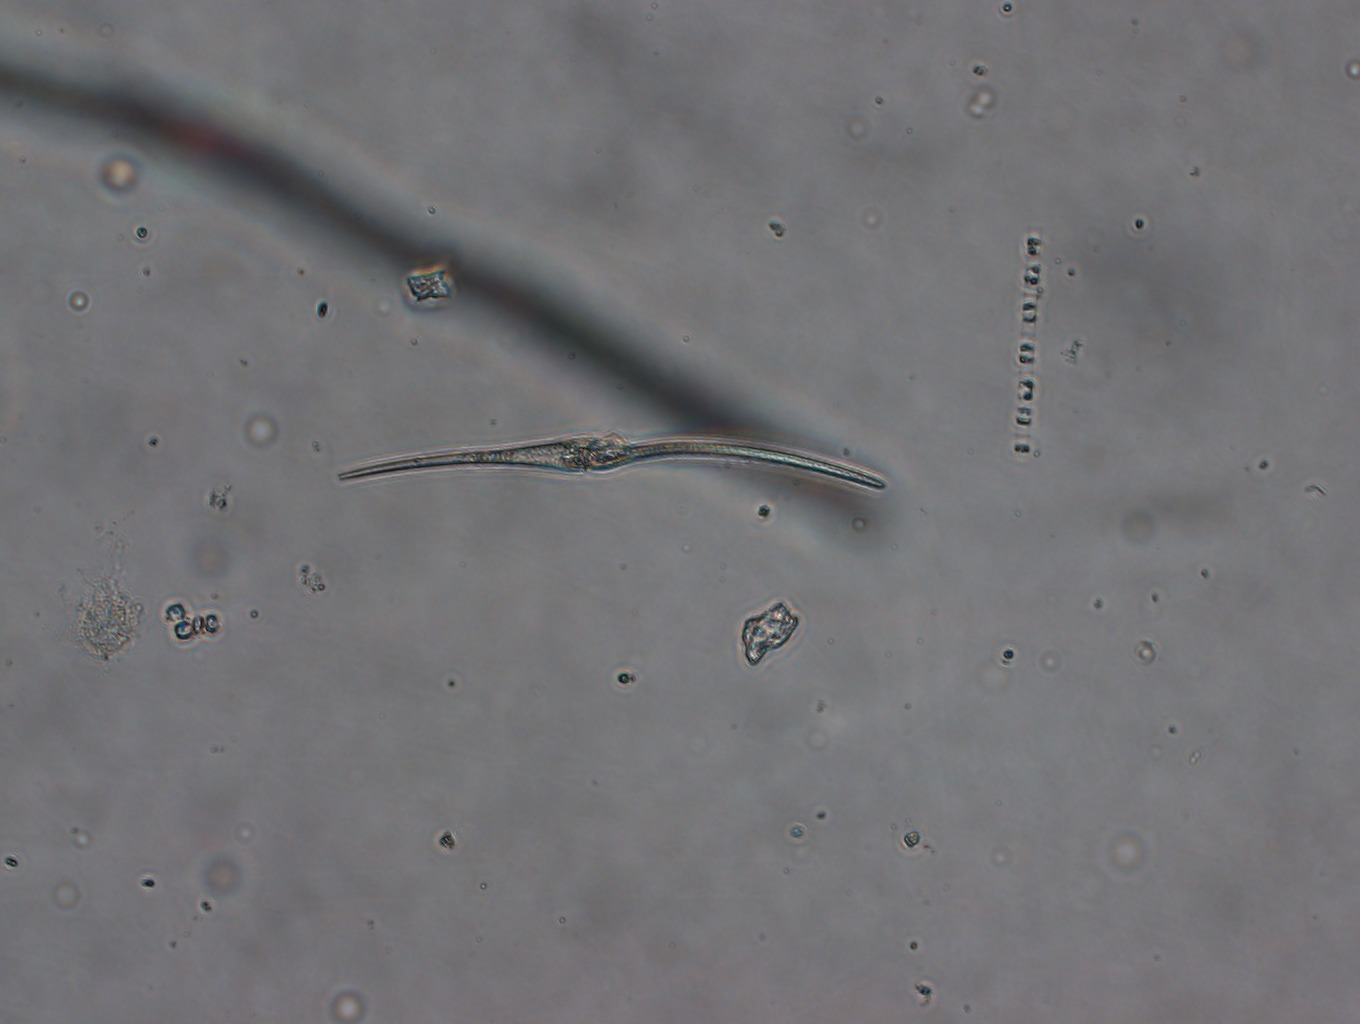ceratium fusus: (337, 433, 887, 490)
skeletonema: (1010, 232, 1043, 456)
